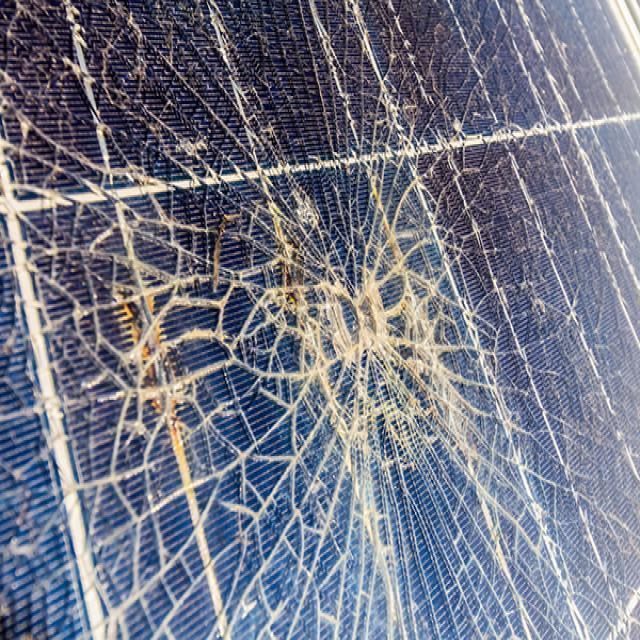Structural Damage: (48, 72, 538, 584)
